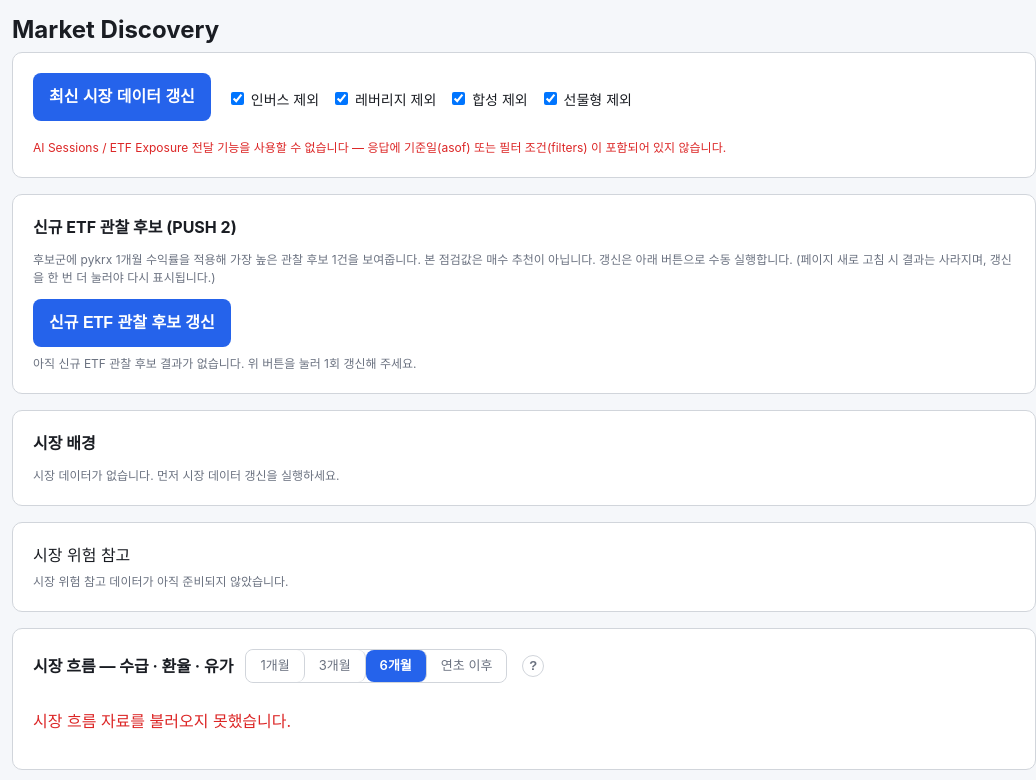
Test: 'VIX 다시 받기' 버튼 (POC5-12) › 전체 갱신이 VIX 만 실패하고 끝나면 같은 화면에서 바로 'VIX 다시 받기'
Click the button "최신 시장 데이터 갱신". click: (122, 97)
box: top-left (33, 73), bottom-right (211, 121)
Wait 4100 ms
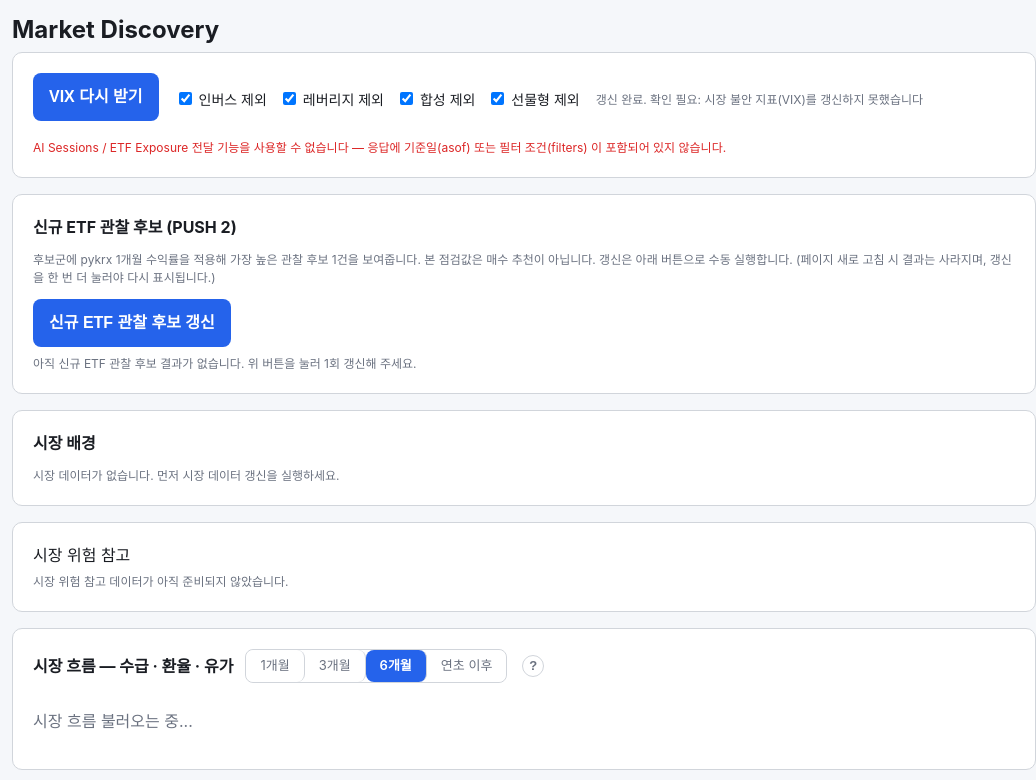
Now the text "갱신 완료. 확인 필요: 시장 불안 지표(VIX)를 갱신하지 못했습니다" is shown, box top-left (596, 91), bottom-right (923, 109)
Now the button "VIX 다시 받기" is shown, box top-left (33, 73), bottom-right (159, 121)
